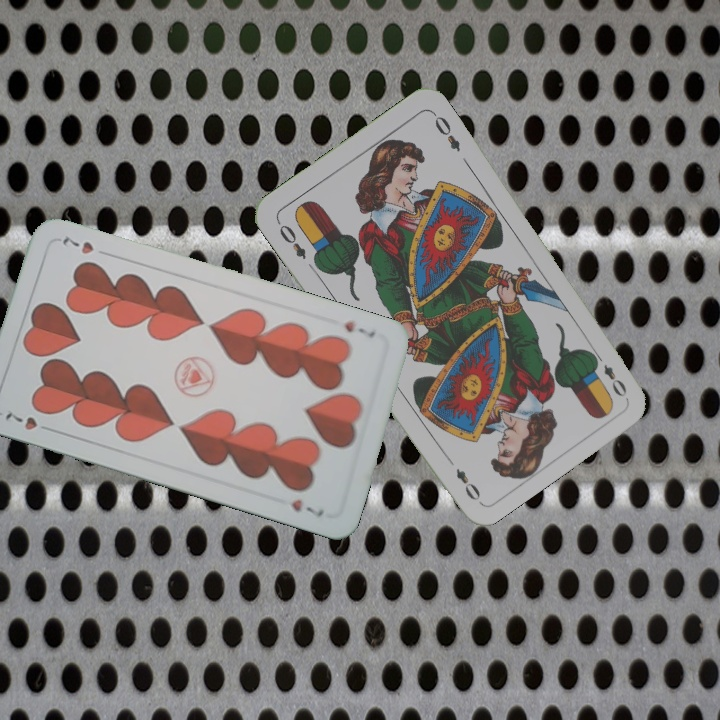EO: (589, 348, 630, 400), (273, 217, 309, 262)
H7: (1, 407, 57, 435), (340, 317, 378, 341)
